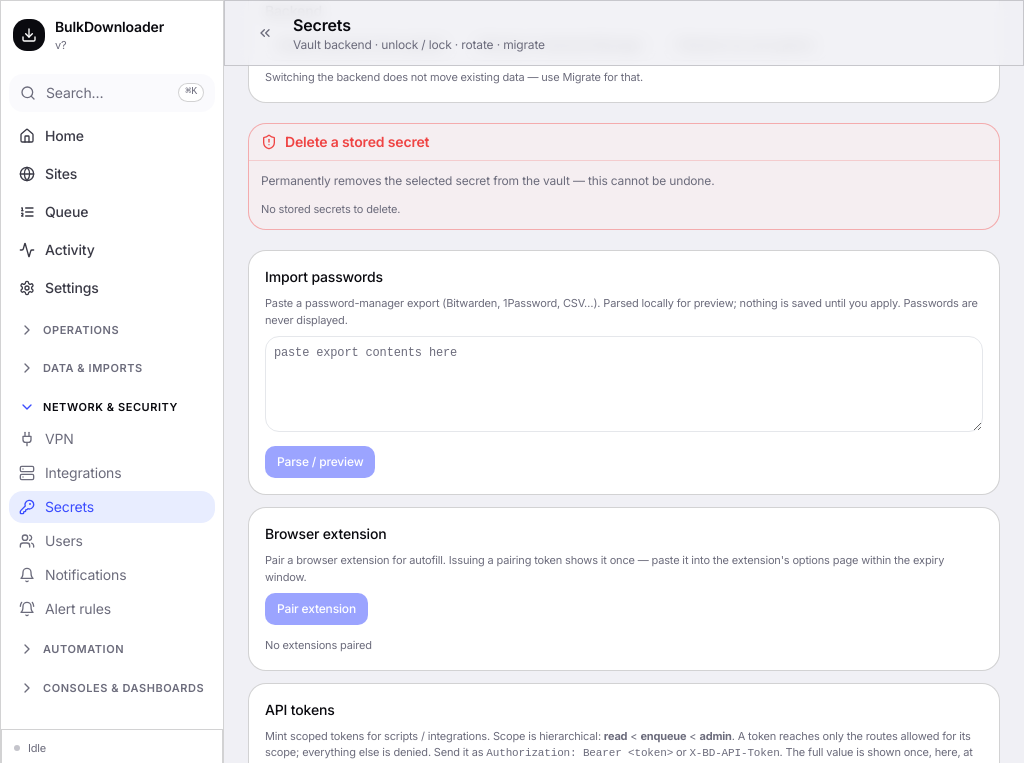
F12 — status-dependent actions wait for a status that was actually read › first load failed: 'Pair extension' and 'Apply selected' are disabled
(page scrolled)
Type "x,y,z" into the text box named "Password export contents" at {"x": 624, "y": 384}, box [265,336,983,432]
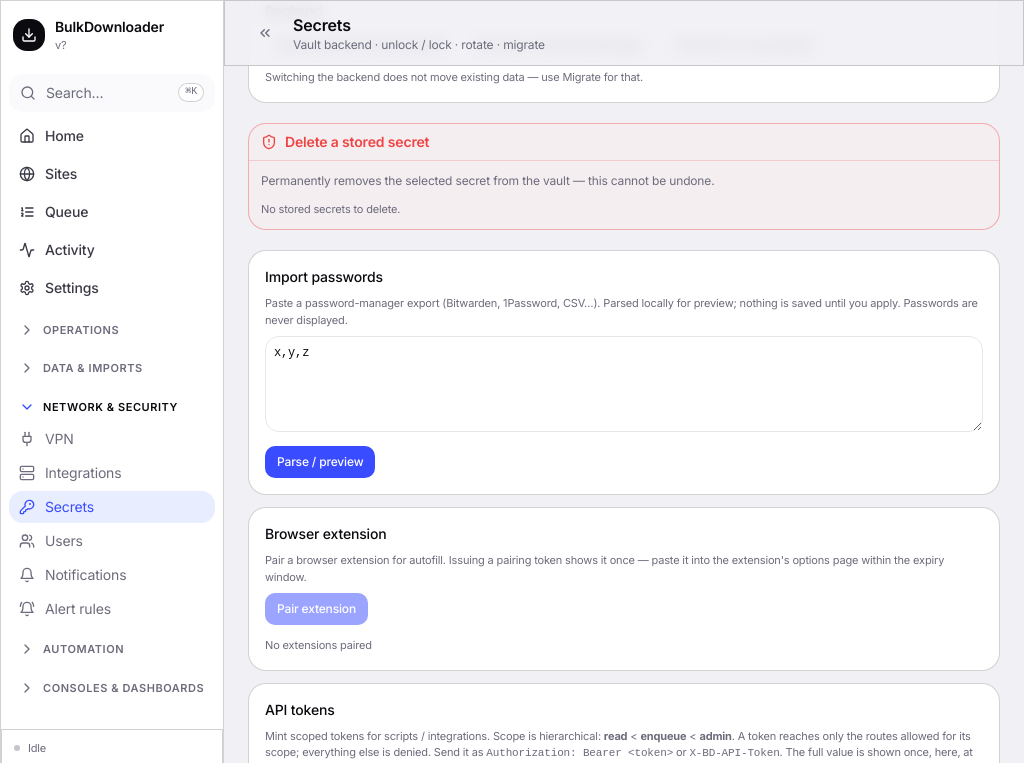
Click the button "Parse / preview" at {"x": 320, "y": 462}, box [265,446,375,478]
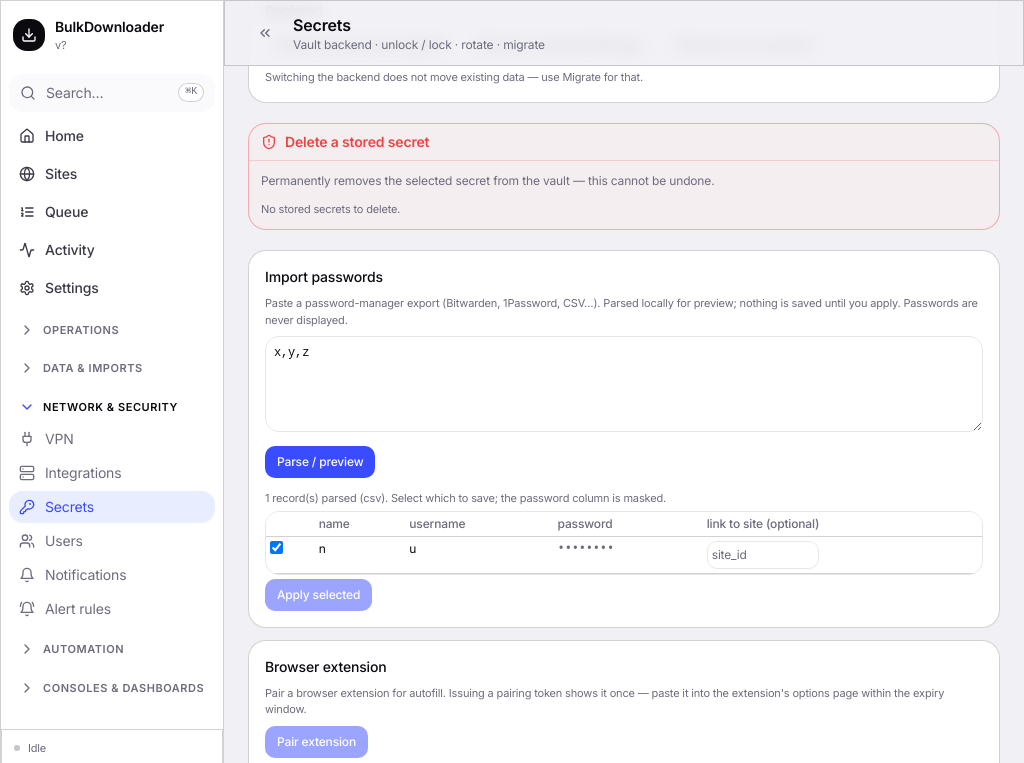
Now the button "Apply selected" is shown, box [265,578,372,610]
